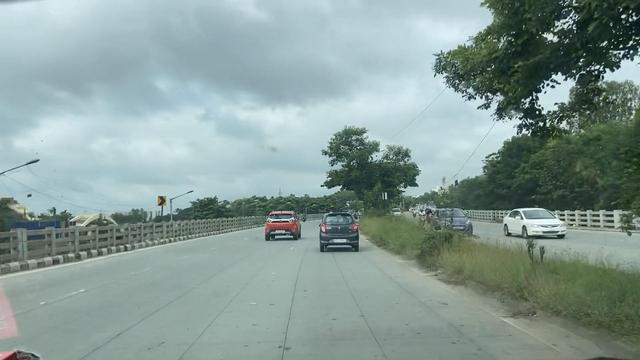LMV: (318, 214, 358, 251), (265, 209, 301, 238)
